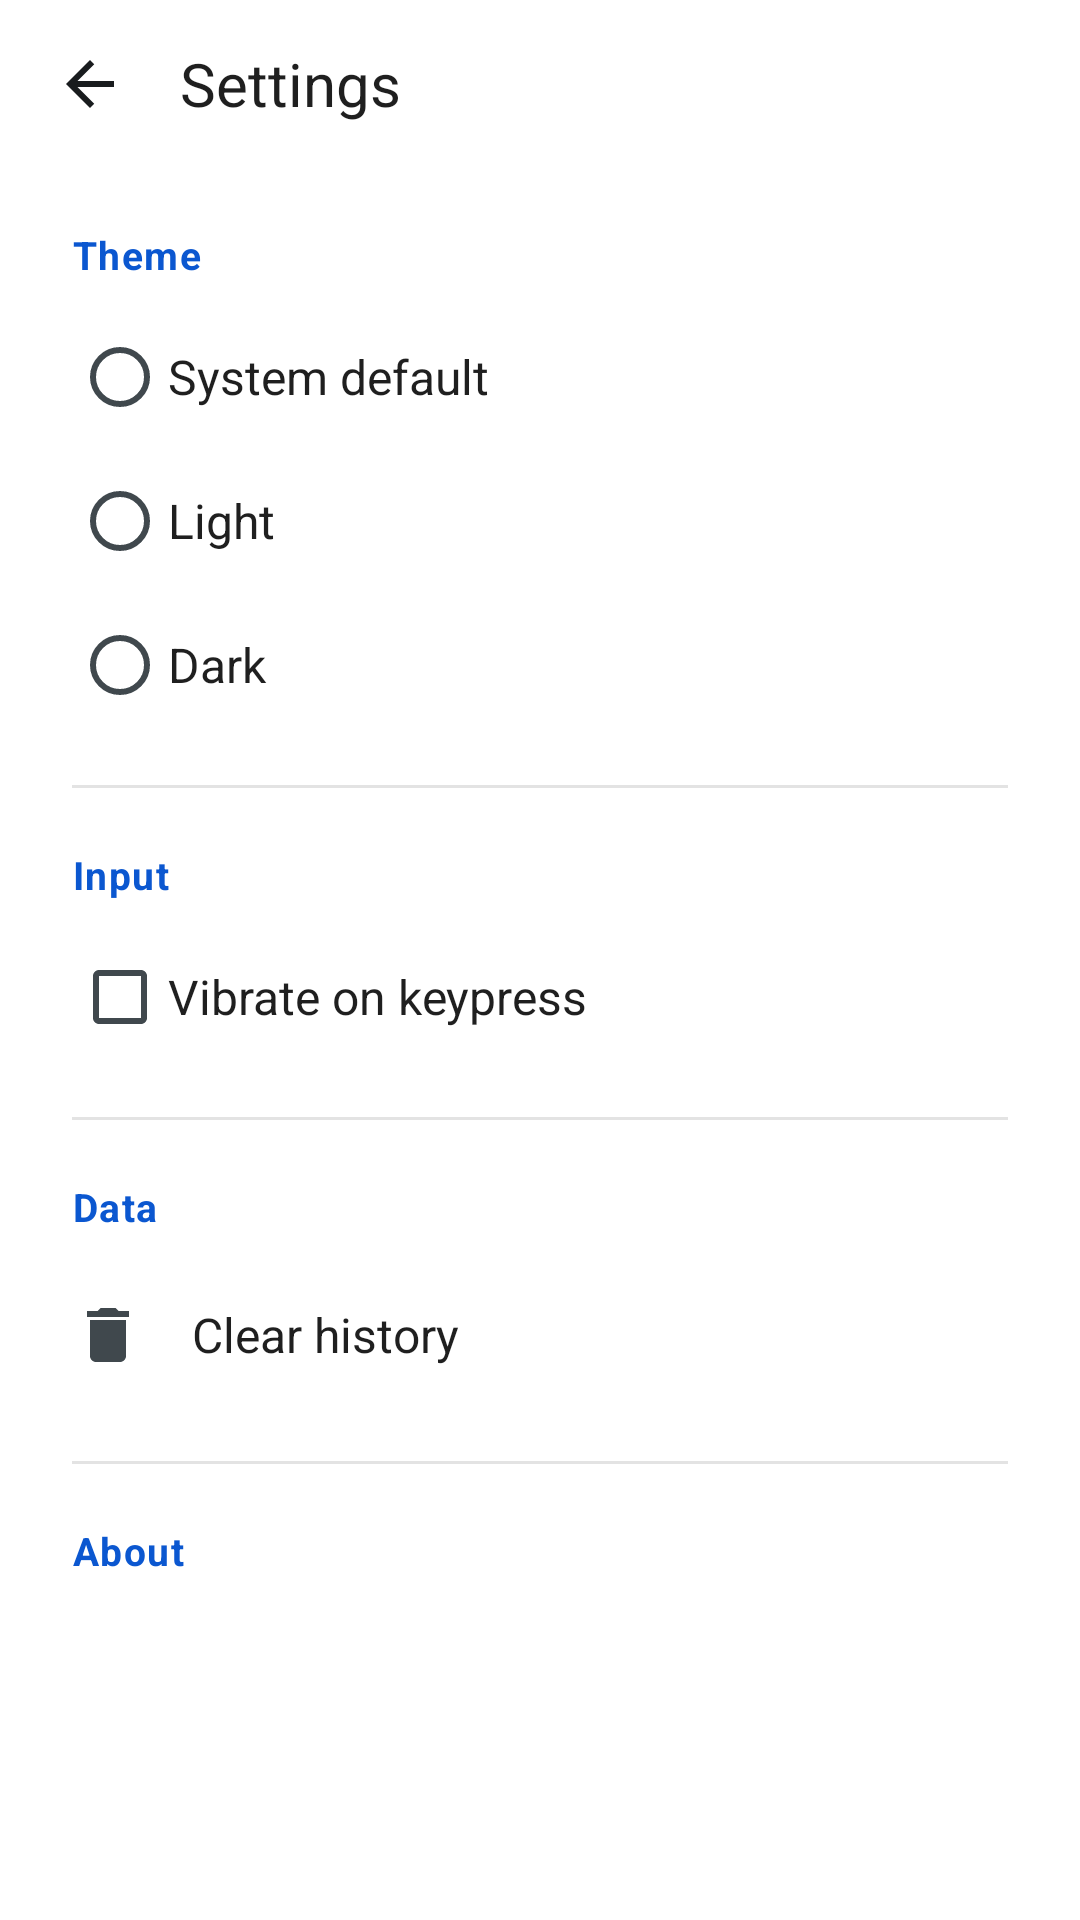

Icon click points for this 1080 × 1920 phone screenshot, format (x,y):
Back: (90,84)
